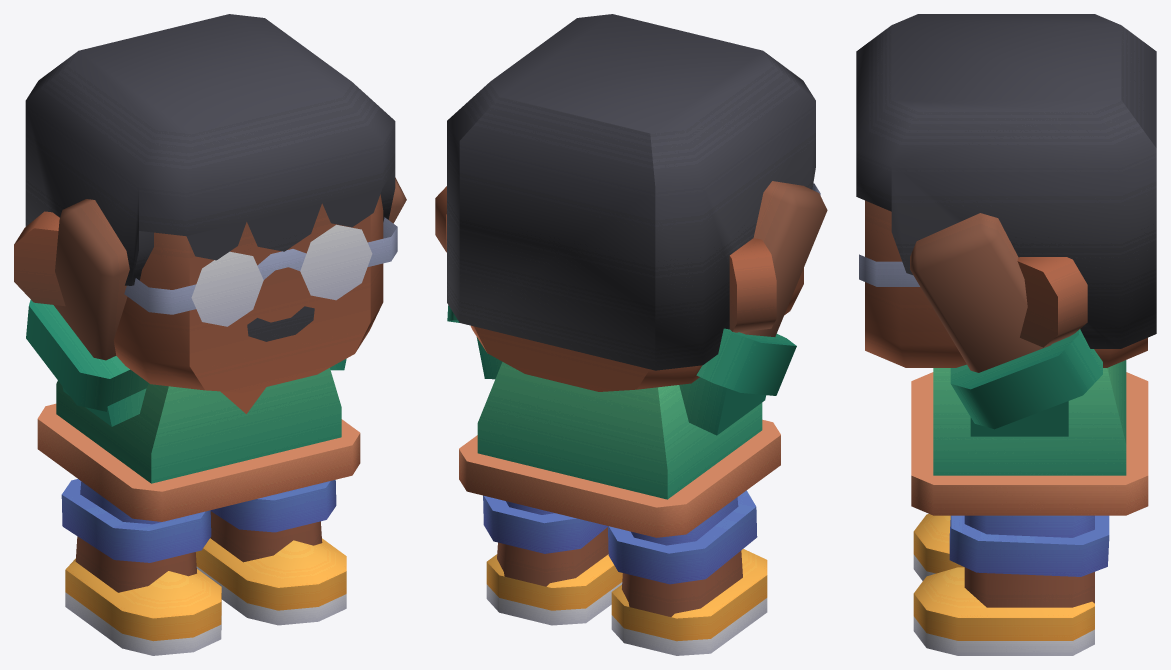
Rendered from character-male-a-idle.glb.
3 views of the same model, side by side, from view 1: azimuth 30°, elevation 25°; view 2: azimuth 150°, elevation 25°; view 3: azimuth 270°, elevation 25° (orthographic).
Visible parts, largest first — view 1: character-male-a-idle; view 2: character-male-a-idle; view 3: character-male-a-idle.
Boxes of the visible parts, left/top/right/bottom form: character-male-a-idle: left=14, top=14, right=406, bottom=655; character-male-a-idle: left=435, top=14, right=827, bottom=655; character-male-a-idle: left=856, top=14, right=1156, bottom=655.
Size of the model in its own units: 0.4535 by 0.6713 by 0.34.
Materials: 1 (1 with a texture image).
